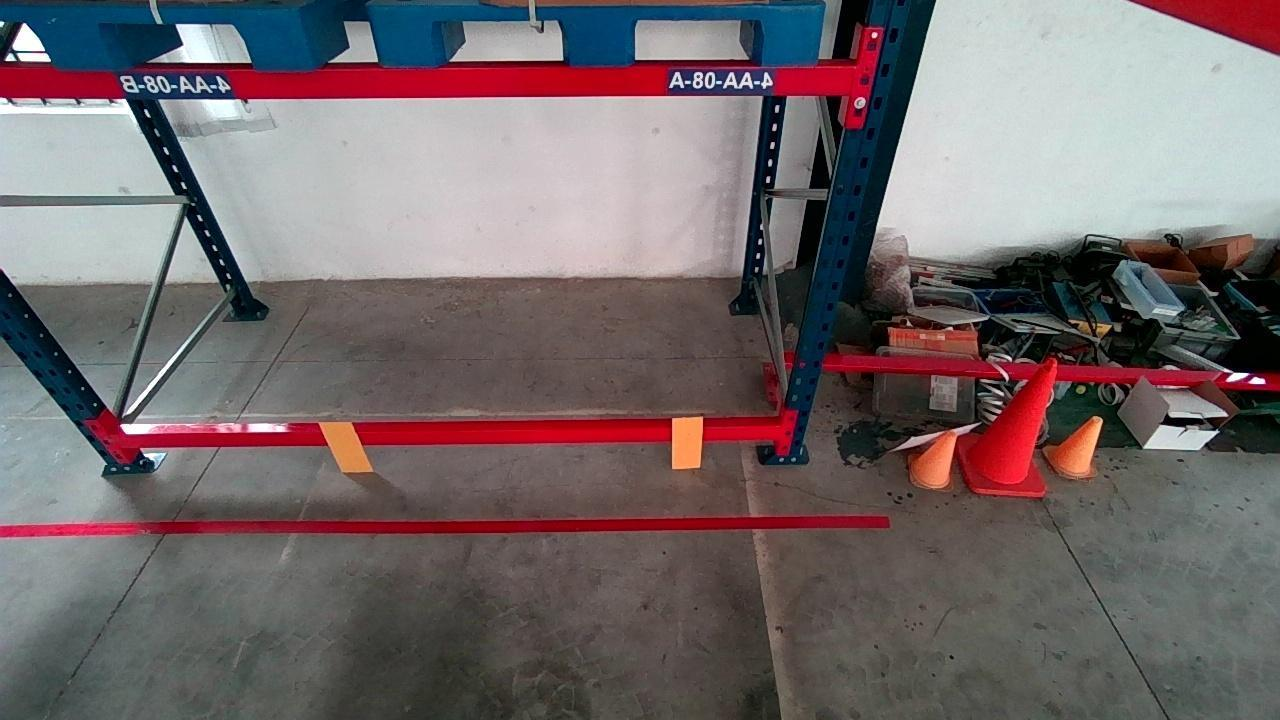h_rack: (13, 53, 845, 102), (121, 416, 782, 451)
orange_strip: (320, 421, 374, 473), (672, 415, 704, 467)
red_line: (2, 508, 886, 546)
small_pallet: (380, 0, 828, 64), (4, 4, 311, 68)
